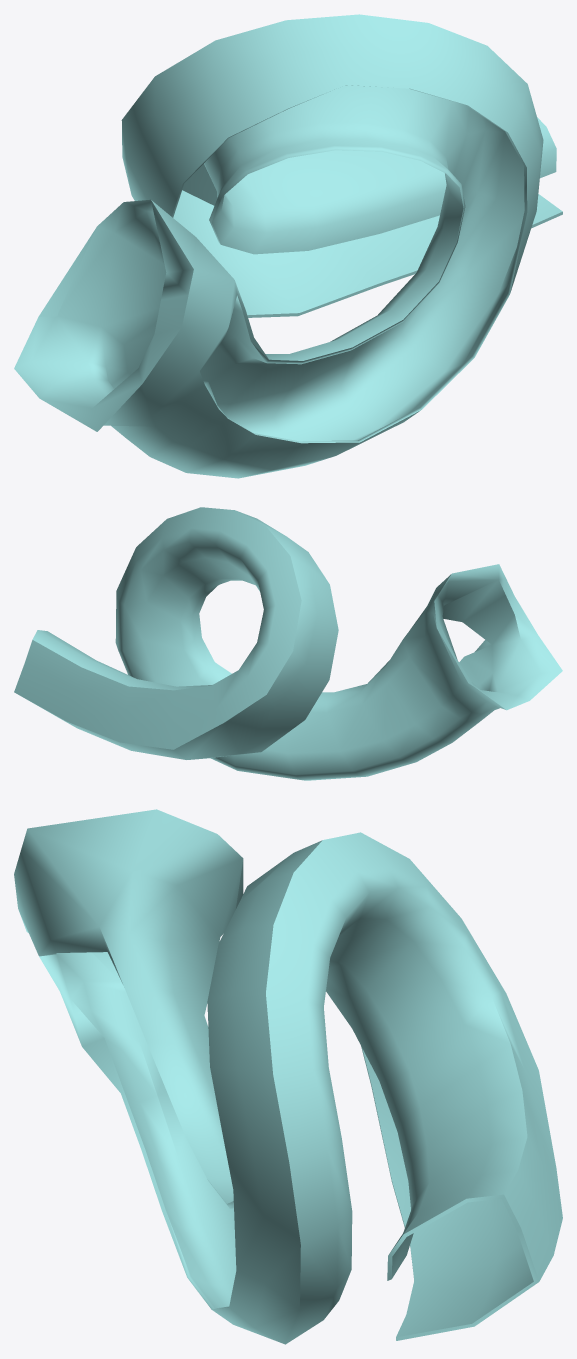
Rendered from Rutschtunnel.fbx.
3 views of the same model, one above another, from view 1: azimuth 30°, elevation 25°; view 2: azimuth 150°, elevation 25°; view 3: azimuth 270°, elevation 25° (orthographic). The views are drawn at different scales.
Parts seen in each view (by area): view 1: Rutschtunnel; view 2: Rutschtunnel; view 3: Rutschtunnel.
Part boxes in pixels (left/top/right/bottom): Rutschtunnel: left=14, top=14, right=562, bottom=478; Rutschtunnel: left=14, top=507, right=562, bottom=780; Rutschtunnel: left=14, top=809, right=562, bottom=1344.
Bounding box in the file's own units: 3459 × 2148 × 2305.
